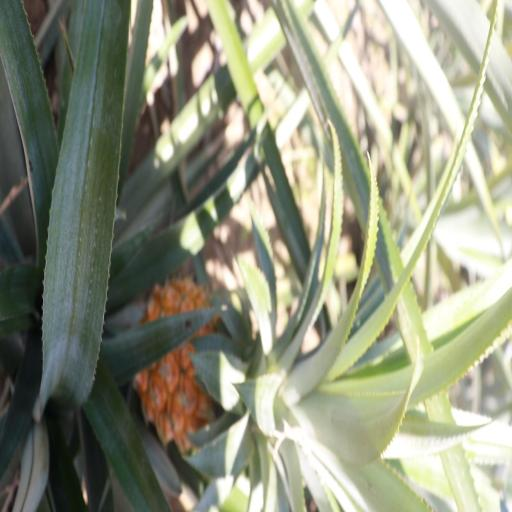Pineapple - v8 v1: (143, 284, 422, 454)
